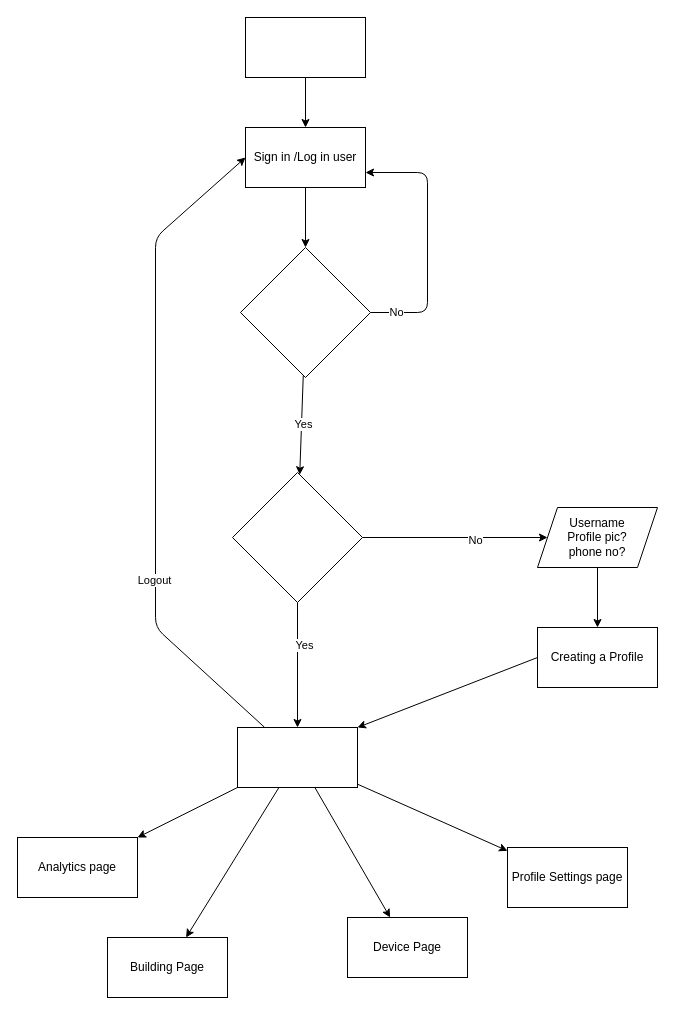
The diagram is 675 pixels wide and 1015 high, and some of its shapes have lost their labels. The shapes that lost their labels are listed below. From the top down, each one's box as (x1, y1, x2, y2) in pixels, then its label:
(244, 16, 366, 78): Landing Page
(240, 246, 370, 378): Authentication succesful
(232, 472, 362, 602): Is user has a Profile
(236, 726, 358, 788): Dashboard
